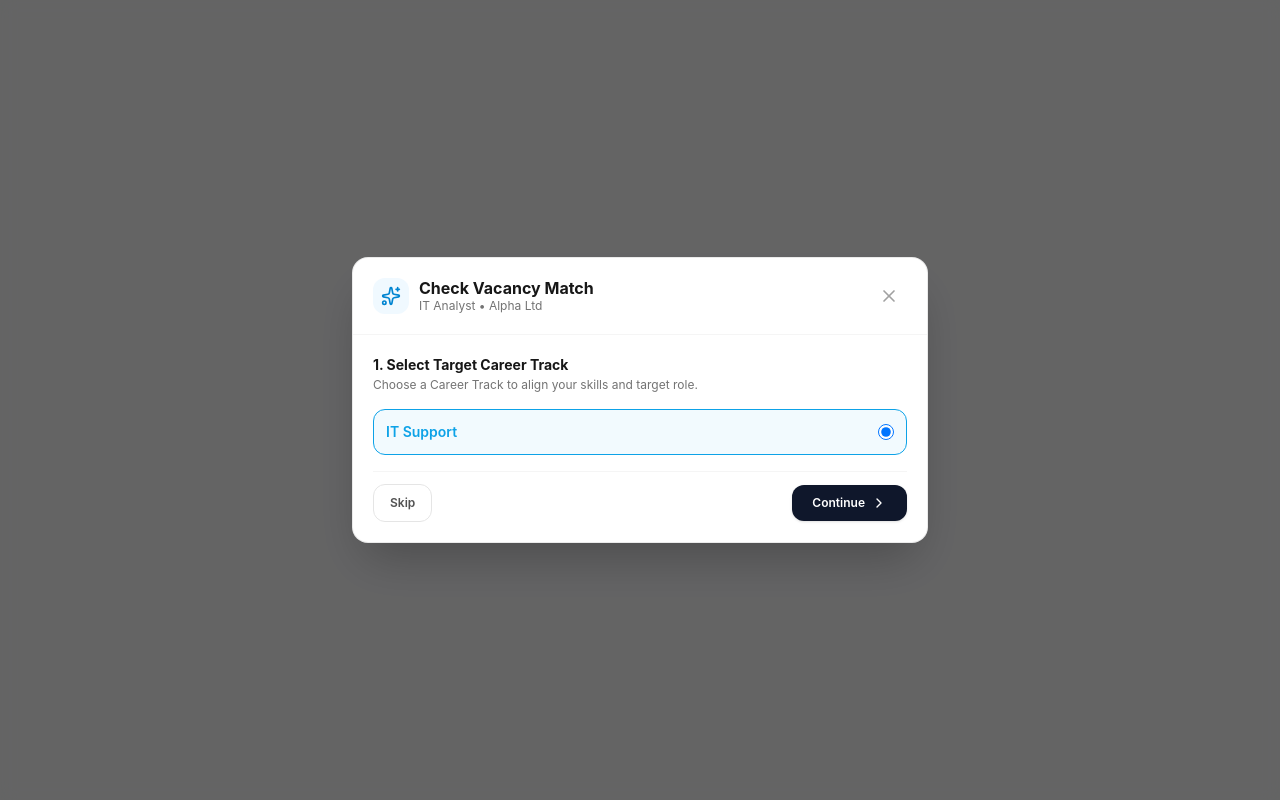
Test: validation before a paste is accepted › refuses to save a paste that is too short to be an advert
The width and height of the screenshot is (1280, 800).
Click the button "Continue".
click(850, 503)  # box [792,485,907,521]
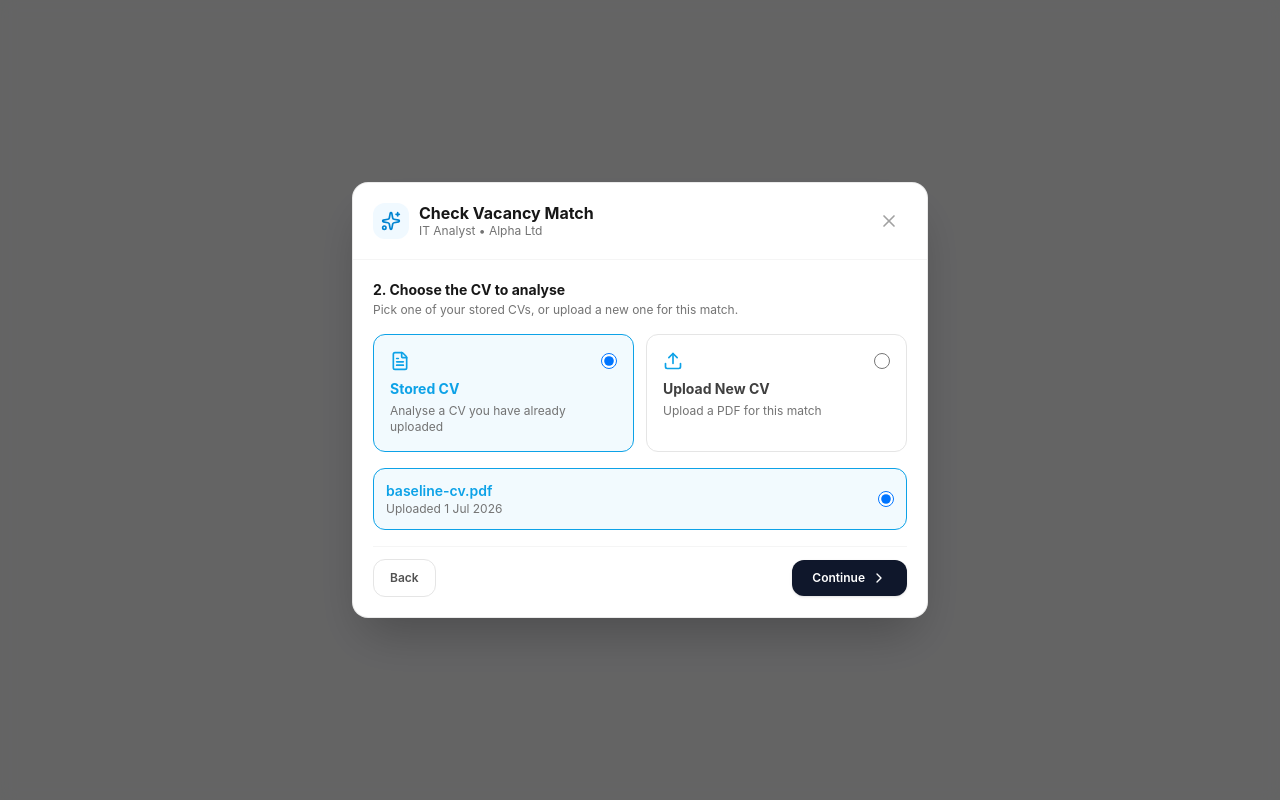
Expected: the radio button labelled "baseline-cv.pdf Uploaded 1 Jul 2026" is shown, [878,491,894,507]
Click the button "Continue".
click(850, 578)  # box [792,560,907,596]
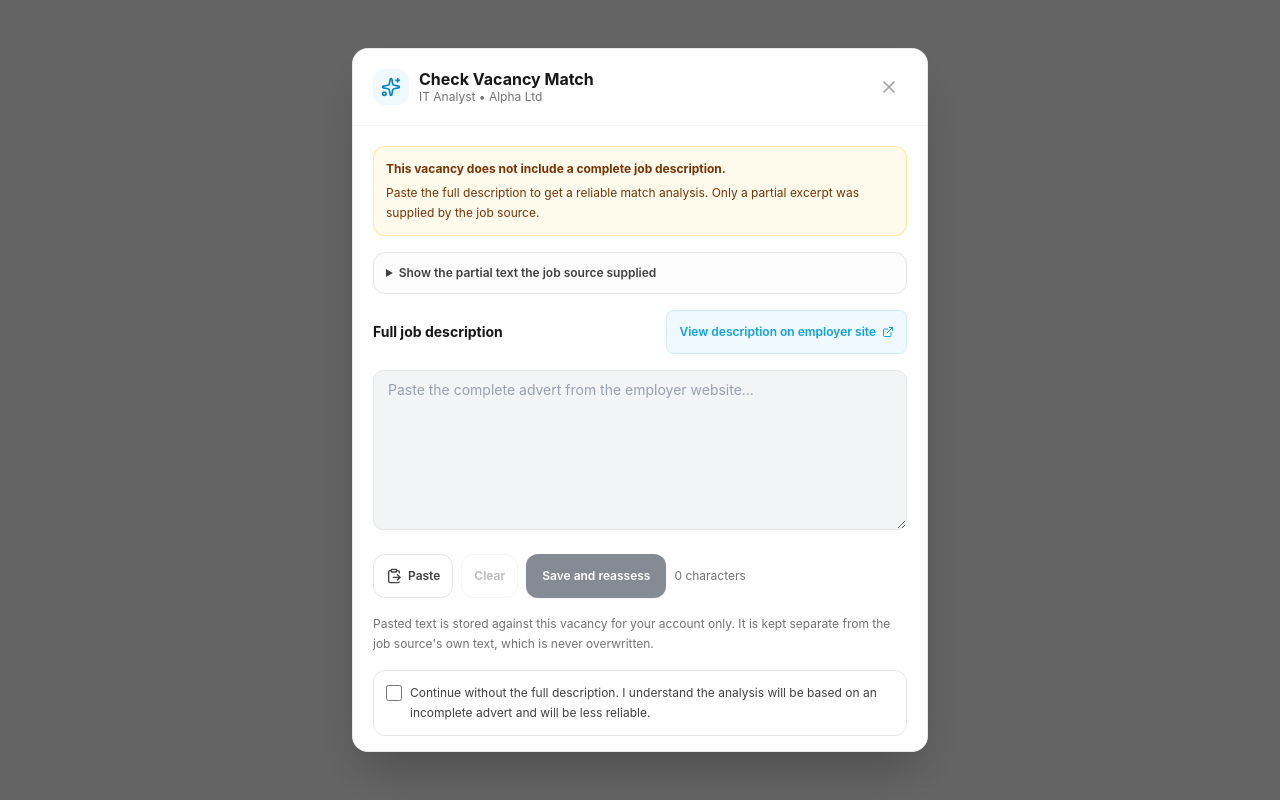
Type "Too short" into the text box labelled "Full job description".
click(640, 450); type("Too short")  # box [373,370,907,530]
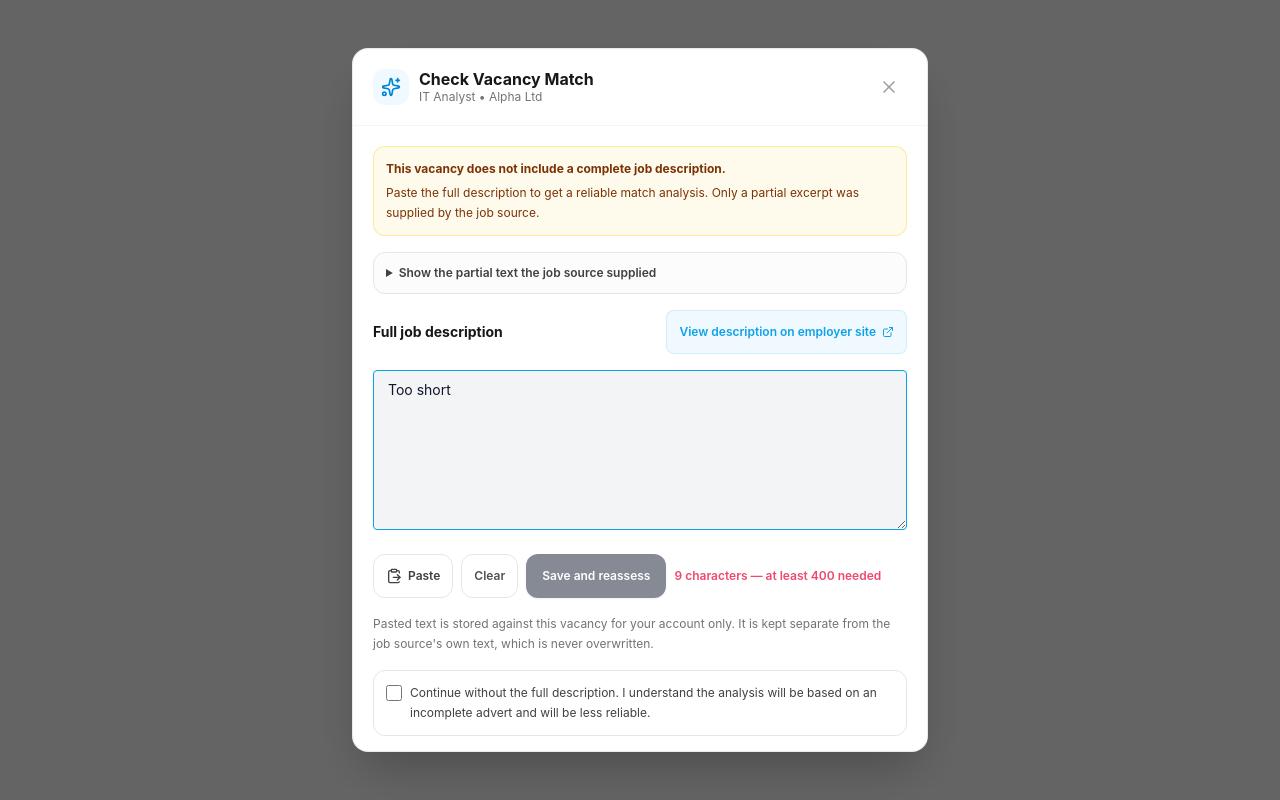
Expected: the button "Save and reassess" is disabled, [526,554,666,598]
Expected: the text "9 characters — at least 400 needed" is shown, [674,568,881,584]
